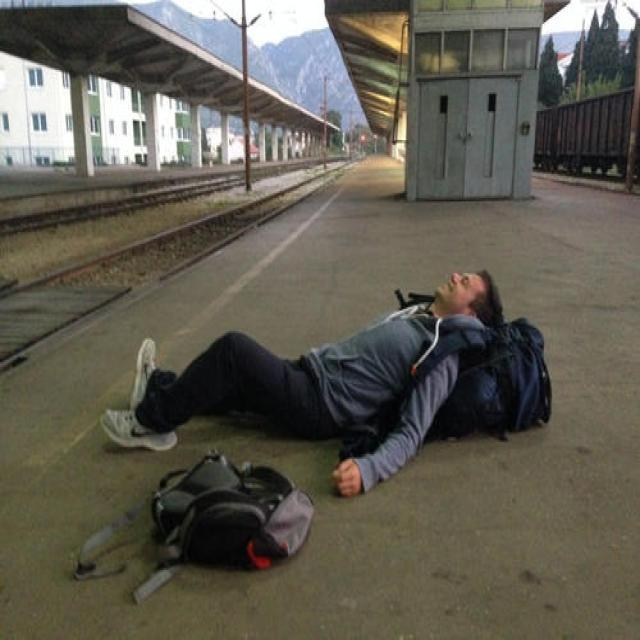down: (96, 254, 511, 500)
